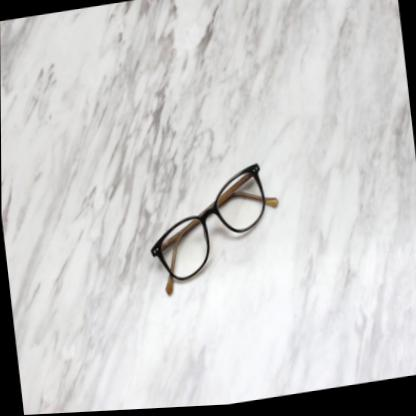Spectacles: (140, 158, 288, 298)
